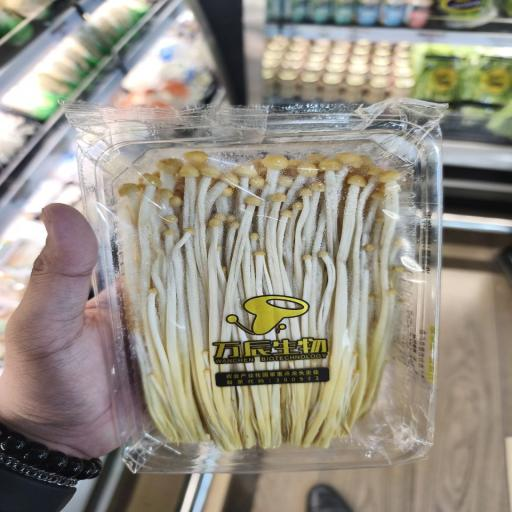Enoki Mushroom: (116, 147, 407, 452)
